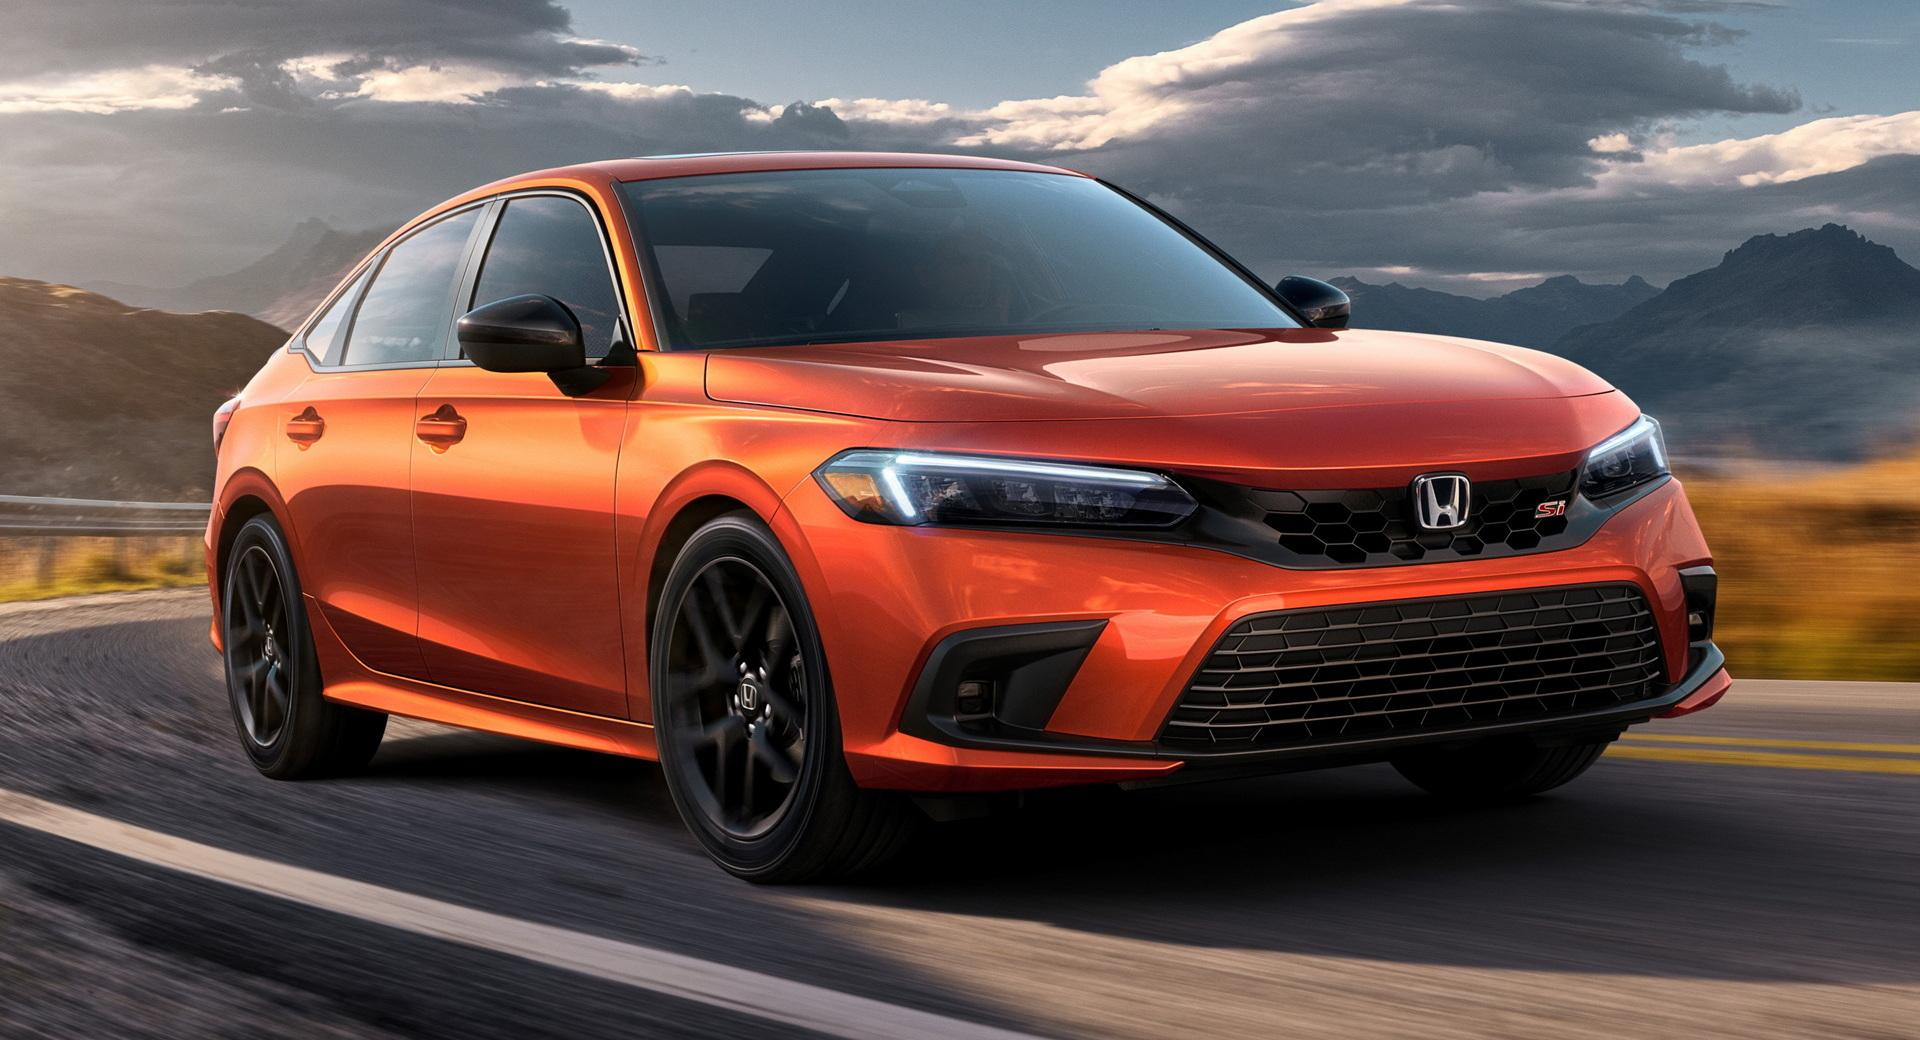windshield: (590, 163, 1325, 373)
